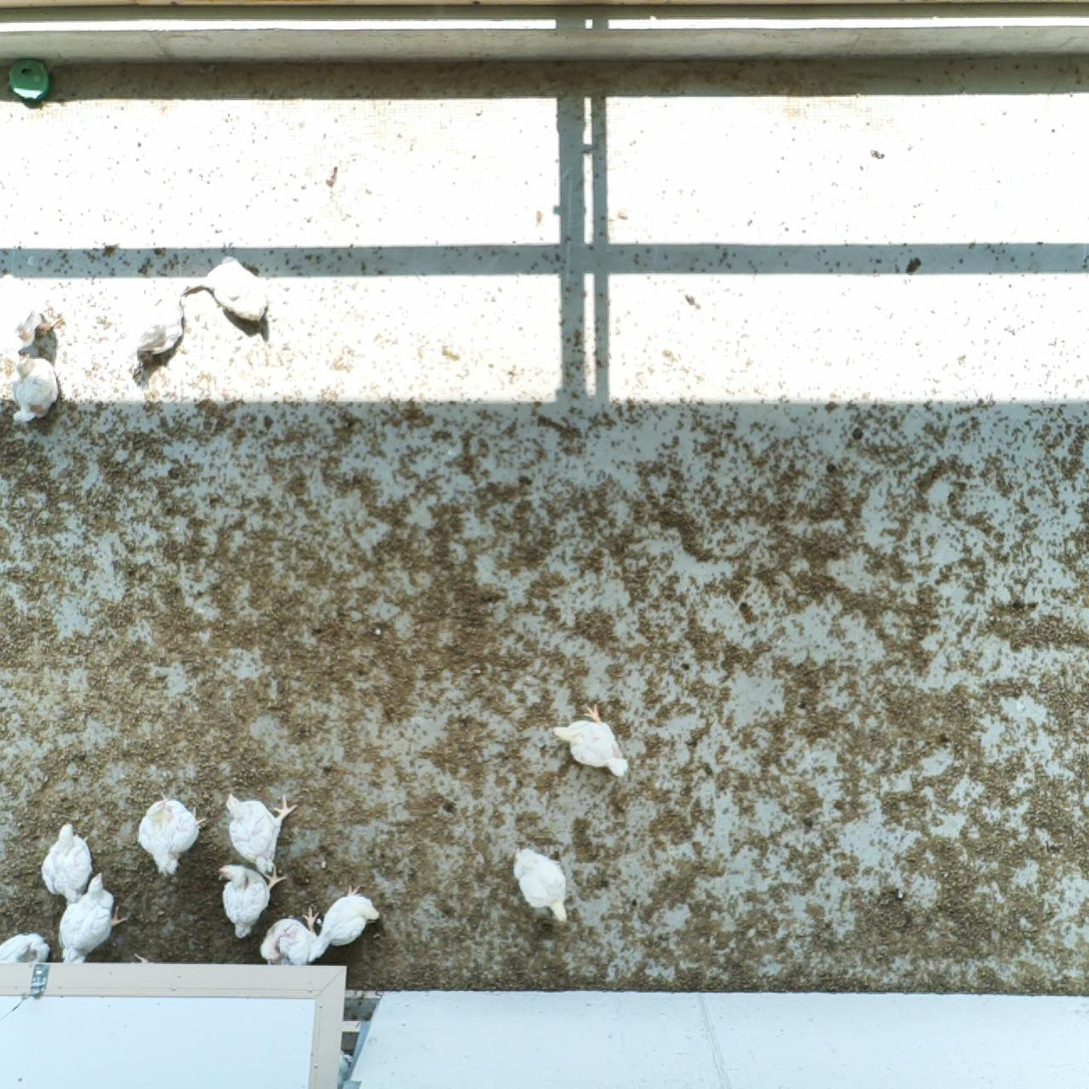chicken: (180, 252, 275, 328), (56, 871, 129, 967), (223, 788, 300, 876), (549, 700, 631, 778), (128, 280, 190, 382), (135, 794, 209, 878), (310, 883, 384, 962), (217, 861, 287, 940), (40, 820, 96, 906), (512, 844, 571, 925), (0, 267, 48, 362), (258, 903, 326, 968), (10, 351, 61, 430), (0, 930, 52, 965), (73, 372, 83, 374)
